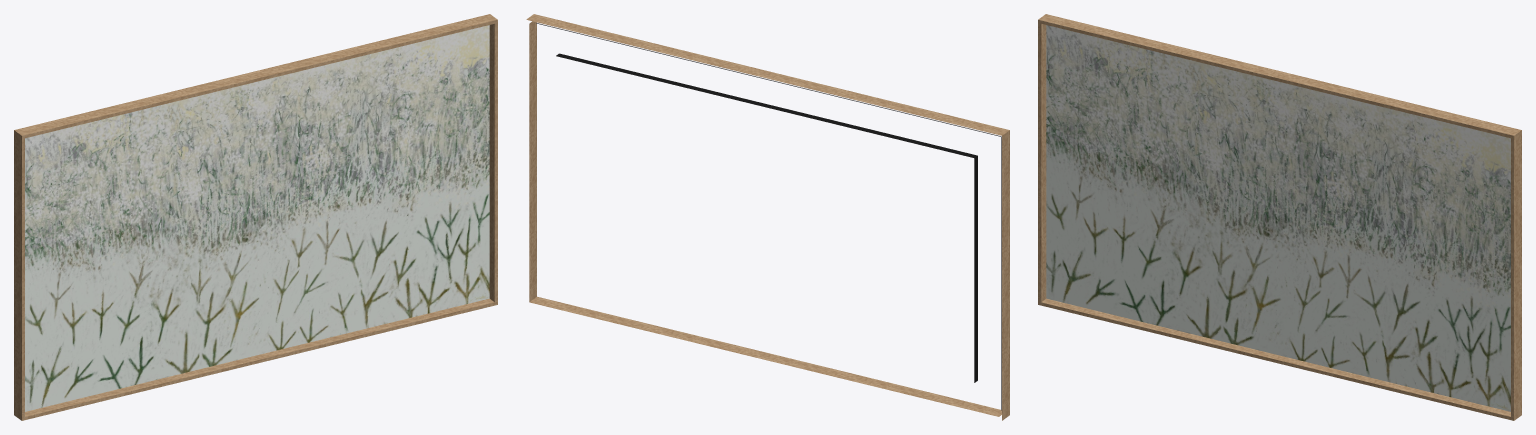
Rendered from hz093_grand_caisse-chene.glb.
The picture shows the model from 3 angles, left to right: view 1: azimuth 30°, elevation 25°; view 2: azimuth 150°, elevation 25°; view 3: azimuth 330°, elevation 25°; orthographic projection.
Visible parts, largest first — view 1: hz093_grand_caisse-chene; view 2: hz093_grand_caisse-chene; view 3: hz093_grand_caisse-chene.
Part boxes in pixels (x1,y1,x2,y2): hz093_grand_caisse-chene: (14,14,497,420); hz093_grand_caisse-chene: (526,14,1009,420); hz093_grand_caisse-chene: (1038,14,1521,420).
Size of the model in its own units: 1.23 by 0.703 by 0.035.
Materials: 4 (2 with a texture image).
